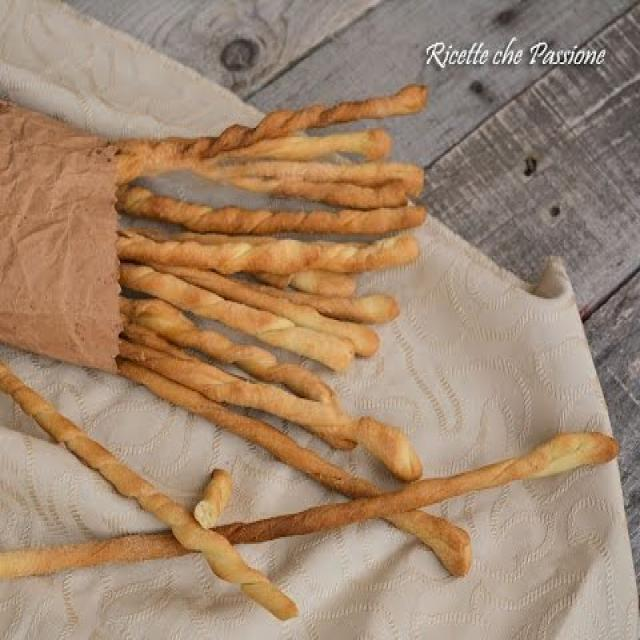Grissini: (107, 78, 483, 568)
